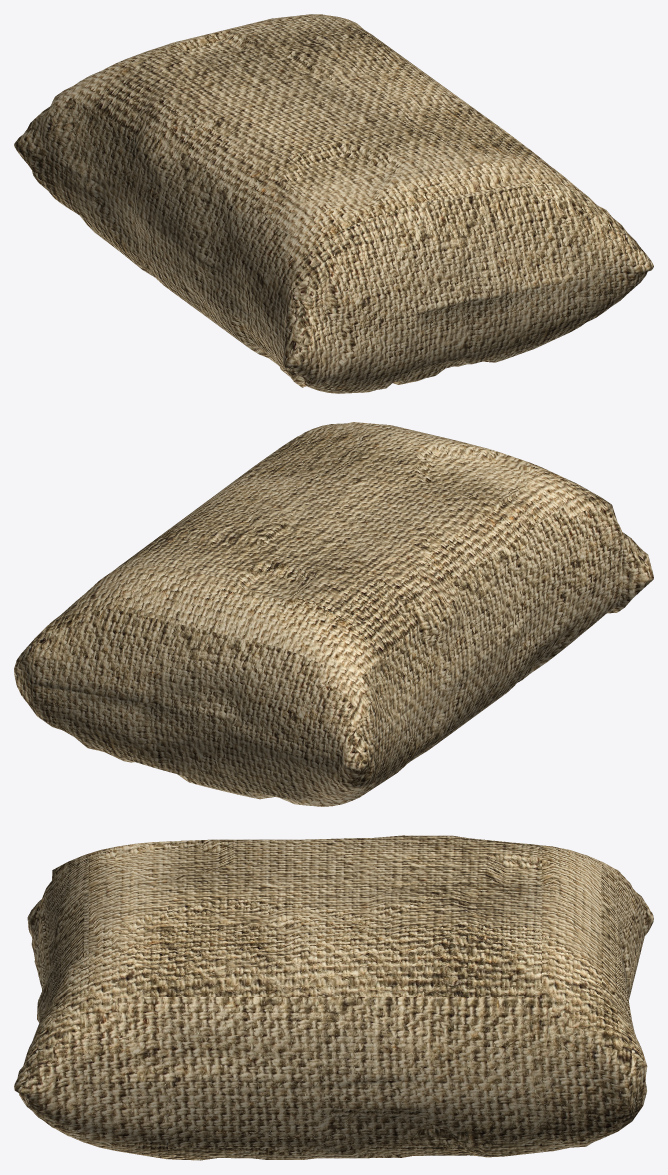
Rendered from meshok.fbx.
The picture shows the model from 3 angles, top to bottom: view 1: azimuth 30°, elevation 25°; view 2: azimuth 150°, elevation 25°; view 3: azimuth 270°, elevation 25°; orthographic projection. The views are drawn at different scales.
Visible parts, largest first — view 1: meshok; view 2: meshok; view 3: meshok.
Boxes of the visible parts, x1=… form: meshok: x1=14, y1=14, x2=653, y2=393; meshok: x1=14, y1=422, x2=653, y2=806; meshok: x1=14, y1=835, x2=653, y2=1160.
Bounding box in the file's own units: 187 × 107 × 263.
